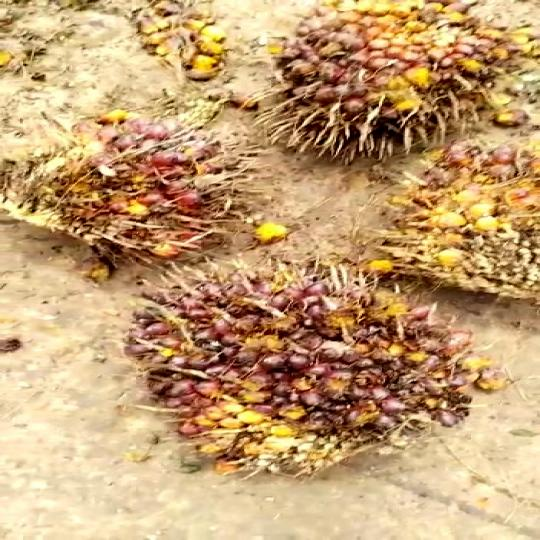masak: (124, 265, 477, 485), (252, 0, 532, 166), (0, 110, 251, 265), (363, 138, 540, 301)
